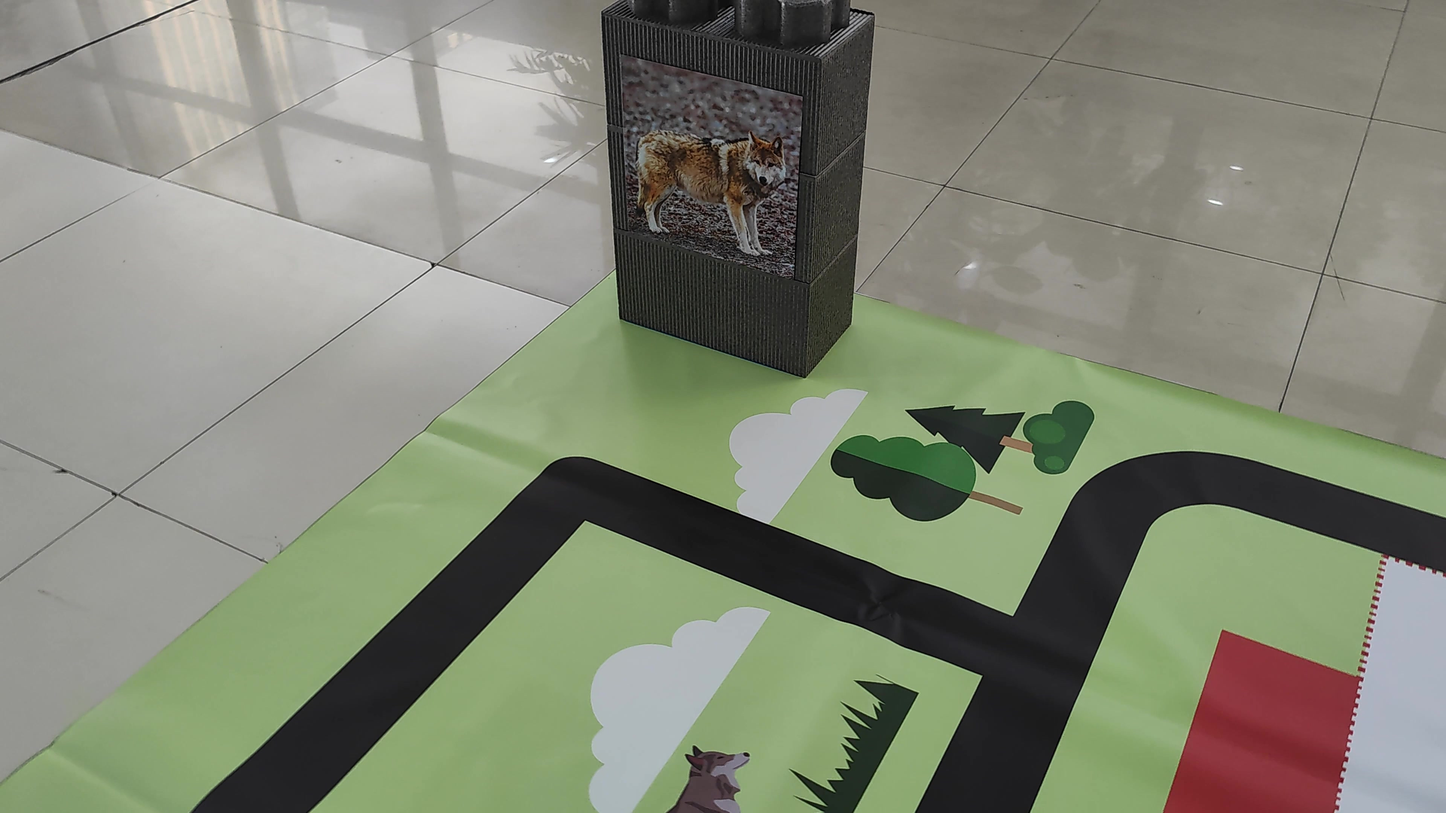wolf: (610, 103, 811, 278)
